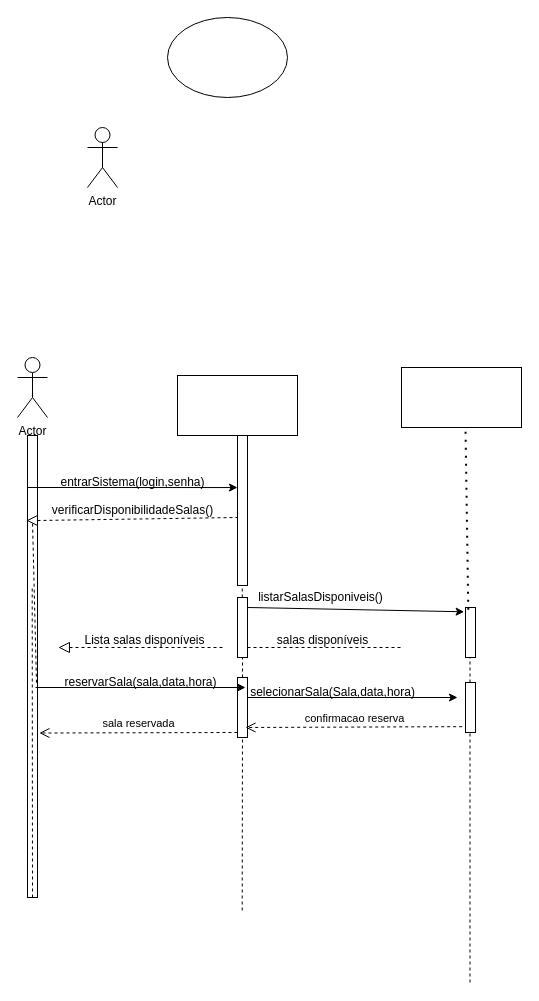
This 539x1001 diagram has some shape labels left out. The centre of each missing label's shape, as x and y in pixels:
":Banco de dados" belongs at pixel 461 397.
":Sistema" belongs at pixel 237 405.
